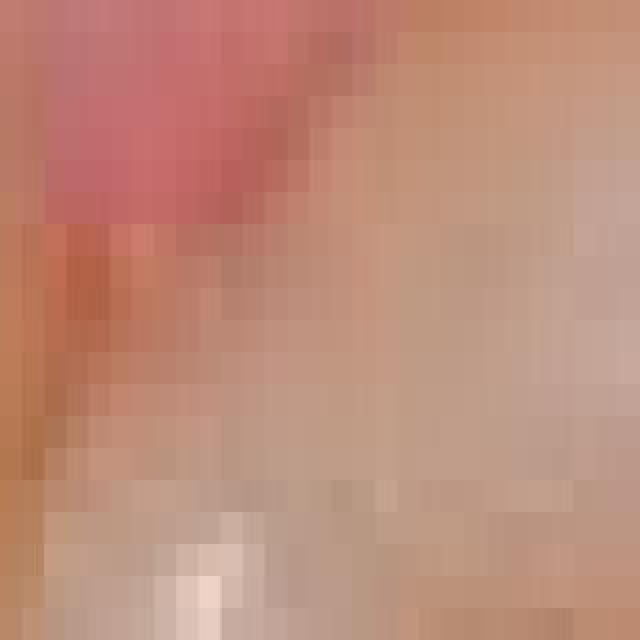cavities: (250, 576, 640, 640)
